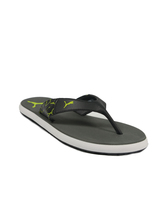shoes: (17, 90, 153, 159)
